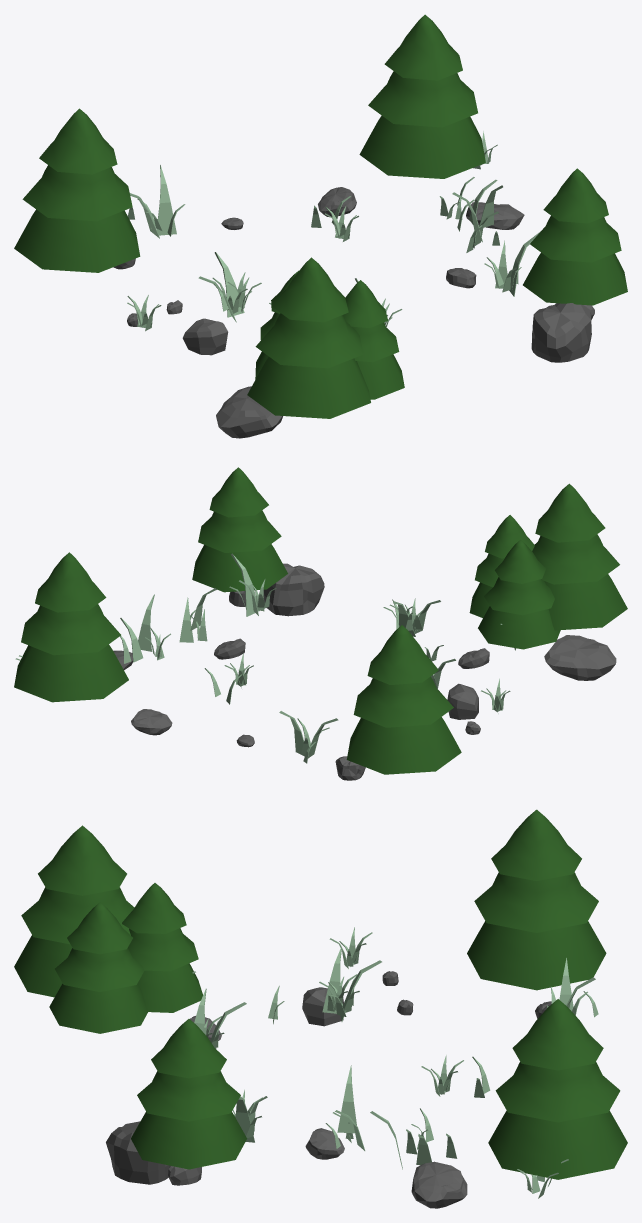
Rendered from GrassFoliage_01.FBX.
3 views of the same model, one above another, from view 1: azimuth 30°, elevation 25°; view 2: azimuth 150°, elevation 25°; view 3: azimuth 270°, elevation 25° (orthographic). The views are drawn at different scales.
Visible parts, largest first — view 1: nurbsToPoly6; view 2: nurbsToPoly6; view 3: nurbsToPoly6.
Boxes of the visible parts, x1=… form: nurbsToPoly6: x1=14, y1=14, x2=627, y2=438; nurbsToPoly6: x1=14, y1=467, x2=627, y2=780; nurbsToPoly6: x1=14, y1=809, x2=627, y2=1208.
Bounding box in the file's own units: 377 × 142 × 394.
